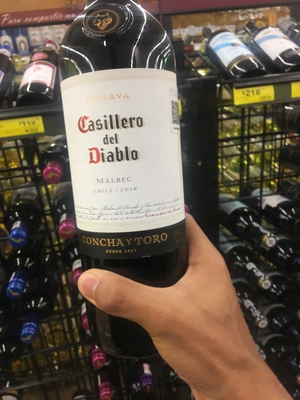casillero del diablo malbec: (55, 1, 220, 350)
